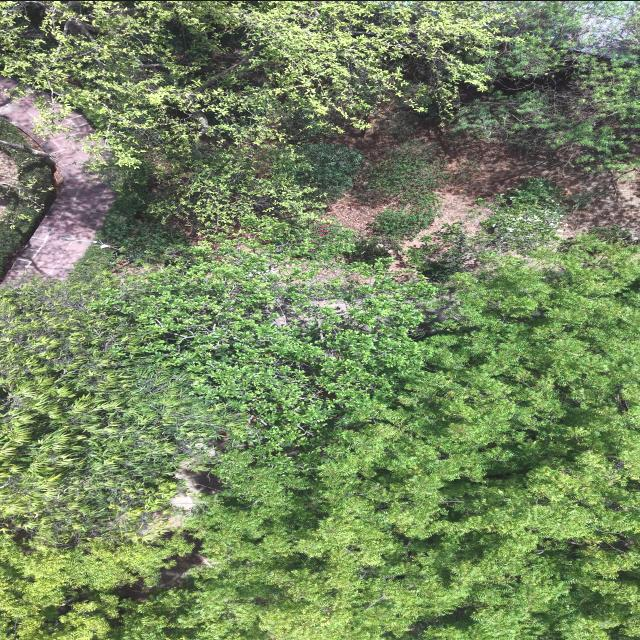DRY_AREA: (333, 106, 639, 250), (336, 108, 639, 236), (400, 137, 639, 251), (427, 134, 639, 237), (120, 551, 207, 601), (170, 462, 220, 509), (155, 550, 208, 588), (0, 148, 17, 183)
PATHWAYS: (0, 77, 113, 282)
VEGETATION_TREE: (0, 1, 639, 639), (1, 237, 639, 639), (2, 1, 634, 257), (2, 1, 545, 258), (1, 1, 505, 254), (1, 1, 503, 162), (1, 280, 236, 543), (447, 1, 639, 170), (450, 41, 639, 169), (139, 145, 353, 257), (0, 535, 192, 639), (407, 178, 570, 281), (358, 141, 449, 237), (504, 1, 639, 57), (358, 140, 449, 217), (0, 148, 52, 268), (484, 178, 567, 251), (406, 222, 499, 281), (296, 142, 362, 197), (371, 206, 432, 238), (346, 235, 400, 264)
